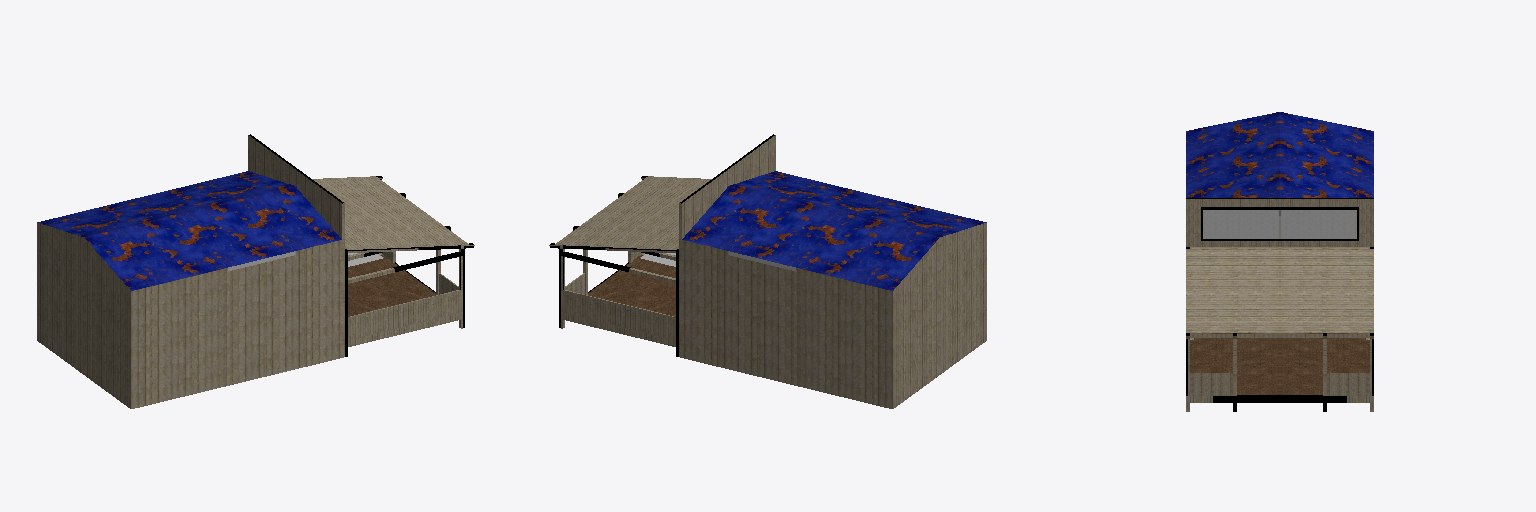
The picture shows the model from 3 angles: view 1: azimuth 30°, elevation 25°; view 2: azimuth 150°, elevation 25°; view 3: azimuth 270°, elevation 25°; orthographic projection.
Visible parts, largest first — view 1: Cube.006_Cube.010; view 2: Cube.006_Cube.010; view 3: Cube.006_Cube.010.
Part boxes in pixels (x1,y1,x2,y2): Cube.006_Cube.010: (37, 134, 474, 408); Cube.006_Cube.010: (549, 134, 986, 408); Cube.006_Cube.010: (1186, 112, 1373, 411).
Size of the model in its own units: 14.61 by 6.28 by 6.92.
Materials: 1 (1 with a texture image).